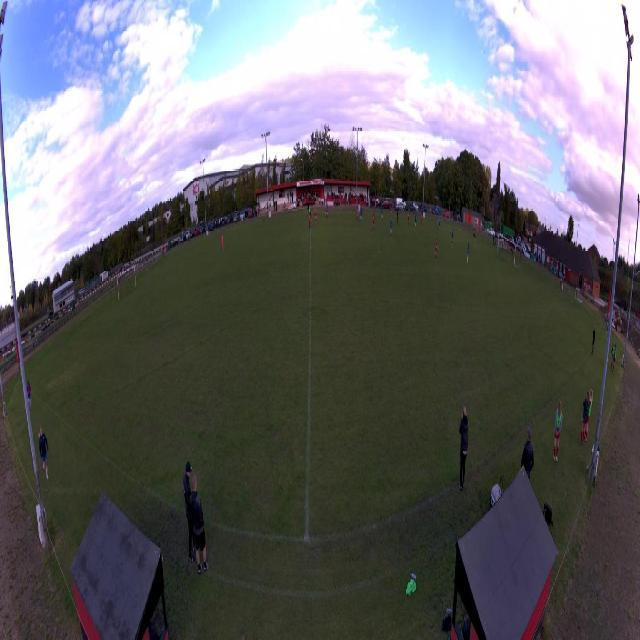ball: (422, 205, 423, 206)
player: (372, 212, 376, 232), (435, 238, 438, 262), (466, 243, 469, 263), (309, 212, 312, 231), (390, 216, 393, 235), (221, 234, 224, 252), (360, 205, 363, 222), (496, 240, 499, 257), (326, 202, 329, 218), (380, 205, 383, 220), (314, 206, 316, 224), (452, 226, 454, 244), (357, 204, 359, 221), (325, 207, 328, 218), (408, 212, 410, 227), (396, 211, 398, 225), (438, 218, 440, 232), (390, 208, 392, 219), (421, 208, 423, 218), (416, 213, 417, 227), (360, 202, 361, 216), (358, 202, 359, 216), (421, 213, 422, 224)
